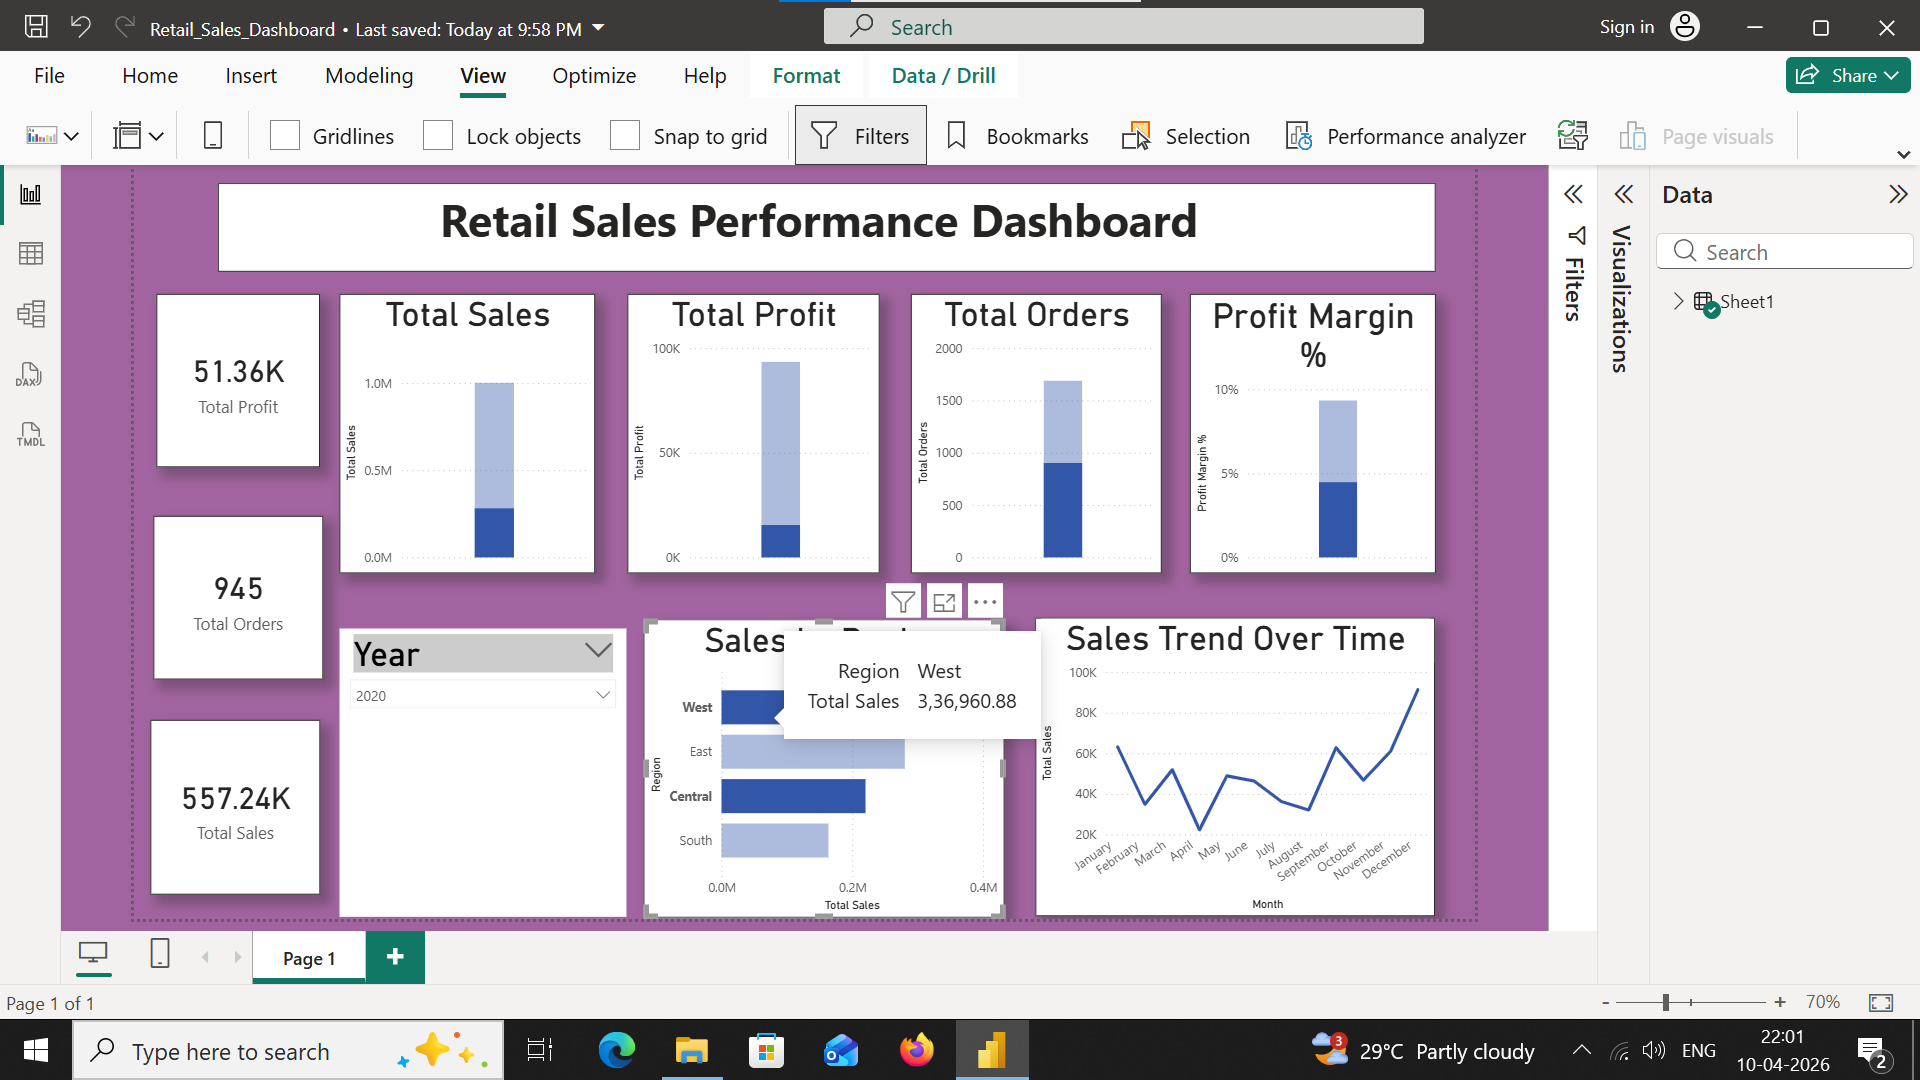

This screenshot's page, from the dashboard's own definition file:
{"tool":"powerbi","page":{"name":"Page 1","canvas":[1280,720],"ordinal":0},"visuals":[{"type":"clusteredColumnChart","fields":{"Y":["Sheet1.Total Sales"]},"box":[196.8,122.7,243.8,266.5],"z":0},{"type":"clusteredColumnChart","fields":{"Y":["Sheet1.Total Profit"]},"box":[470.9,122.7,240.8,266.5],"z":1000},{"type":"clusteredColumnChart","fields":{"Y":["Sheet1.Total Orders"]},"box":[742,122.7,239.2,266.5],"z":2000},{"type":"clusteredColumnChart","fields":{"Y":["Sheet1.Profit Margin %"]},"box":[1008.5,122.7,234.7,266.5],"z":3000},{"type":"clusteredBarChart","title":"Sales by Region","fields":{"Category":["Sheet1.Region"],"Y":["Sheet1.Total Sales"]},"box":[487.6,434.6,343.7,284.7],"z":4000},{"type":"lineChart","title":"Sales Trend Over Time","fields":{"Category":["Sheet1.Order Date.Variation.Date Hierarchy.Month"],"Y":["Sheet1.Total Sales"]},"box":[861.6,433.1,381.6,284.7],"z":5000},{"type":"slicer","fields":{"Values":["Sheet1.Year"]},"box":[196.8,442.1,274.1,275.6],"z":6000},{"type":"textbox","box":[80.3,16.7,1162.9,84.8],"z":7000},{"type":"card","fields":{"Values":["Sheet1.Total Orders"]},"box":[18.2,334.6,162,156],"z":8000},{"type":"card","fields":{"Values":["Sheet1.Total Profit"]},"box":[21.2,122.7,156,165],"z":9000},{"type":"card","fields":{"Values":["Sheet1.Total Sales"]},"box":[15.1,530,162,166.6],"z":10000}]}

Visuals, with their boxes on the page's 1280x720 design canvas (x1, y1, x2, y2). These are canvas units, not pixel positions in the 1920x1080 screenshot, which may show the page scaled, cropped or inside an application window:
clusteredColumnChart - Sheet1.Total Sales: Rect(197, 123, 441, 389)
clusteredColumnChart - Sheet1.Total Profit: Rect(471, 123, 712, 389)
clusteredColumnChart - Sheet1.Total Orders: Rect(742, 123, 981, 389)
clusteredColumnChart - Sheet1.Profit Margin %: Rect(1008, 123, 1243, 389)
"Sales by Region" clusteredBarChart: Rect(488, 435, 831, 719)
"Sales Trend Over Time" lineChart: Rect(862, 433, 1243, 718)
slicer - Sheet1.Year: Rect(197, 442, 471, 718)
textbox: Rect(80, 17, 1243, 102)
card - Sheet1.Total Orders: Rect(18, 335, 180, 491)
card - Sheet1.Total Profit: Rect(21, 123, 177, 288)
card - Sheet1.Total Sales: Rect(15, 530, 177, 697)
